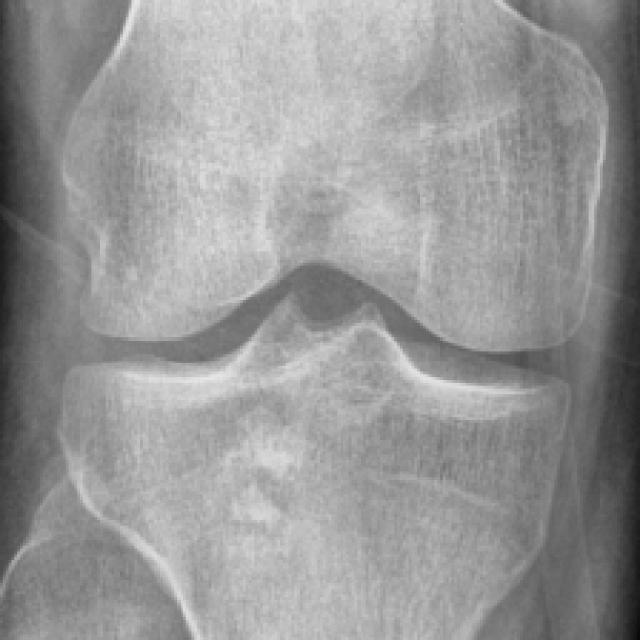femur: (54, 0, 606, 352)
tibia: (57, 297, 571, 640)
